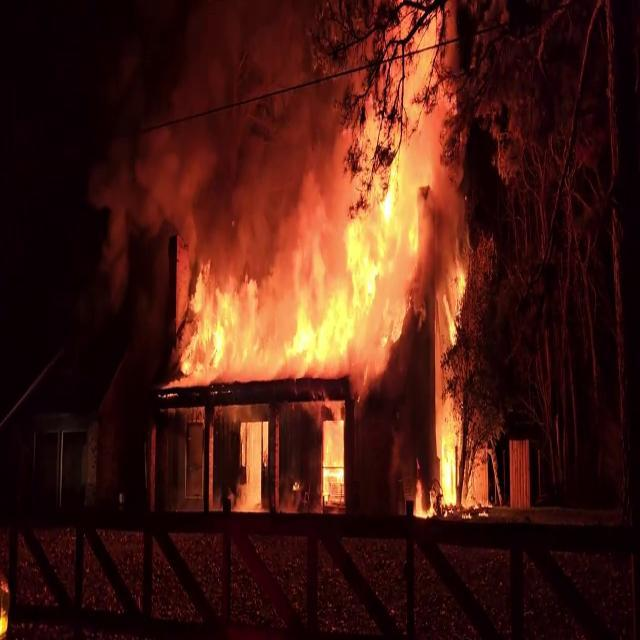Fire: (174, 96, 472, 482), (426, 358, 488, 520), (320, 410, 346, 507)
Smoke: (89, 1, 339, 242)
